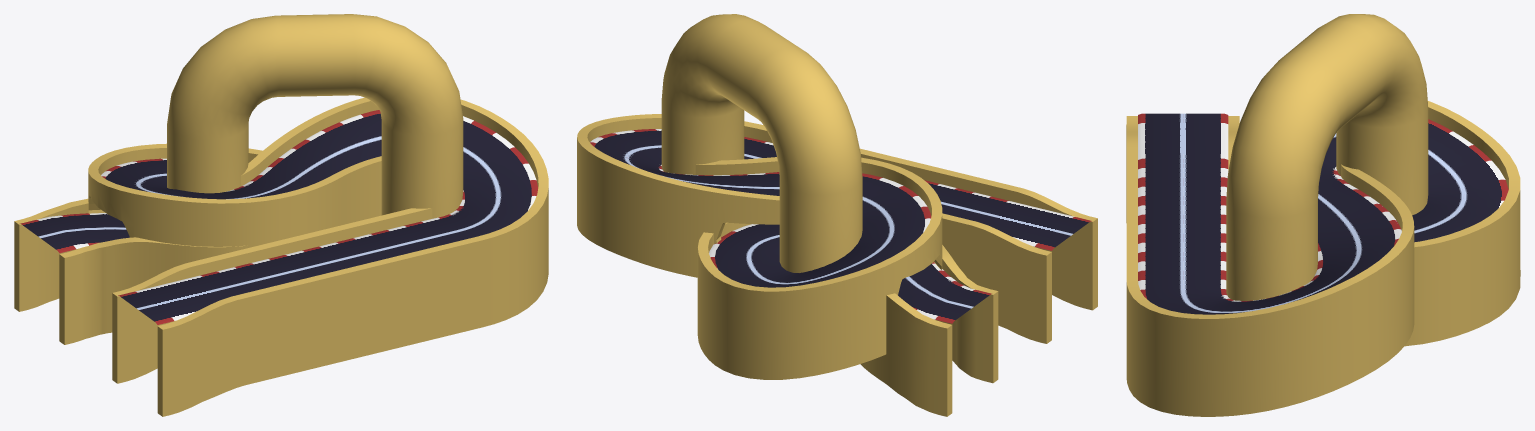
3 views of the same model, side by side, from view 1: azimuth 30°, elevation 25°; view 2: azimuth 150°, elevation 25°; view 3: azimuth 270°, elevation 25° (orthographic). The views are drawn at different scales.
Parts seen in each view (by area): view 1: regular 3 complemento, torre 3, regular 3 pista; view 2: regular 3 complemento, torre 3, regular 3 pista; view 3: regular 3 complemento, torre 3, regular 3 pista.
Part boxes in pixels (box(x1,y1,x2,y2)): regular 3 complemento: box(14, 97, 548, 416); torre 3: box(167, 14, 463, 218); regular 3 pista: box(20, 110, 538, 324); regular 3 complemento: box(577, 114, 1097, 416); torre 3: box(661, 14, 862, 272); regular 3 pista: box(590, 129, 1091, 323); regular 3 complemento: box(1126, 101, 1520, 416); torre 3: box(1226, 14, 1428, 300); regular 3 pista: box(1138, 113, 1508, 314).
Bounding box in the file's own units: 254 × 154 × 179.
Materials: 2 (1 with a texture image).
